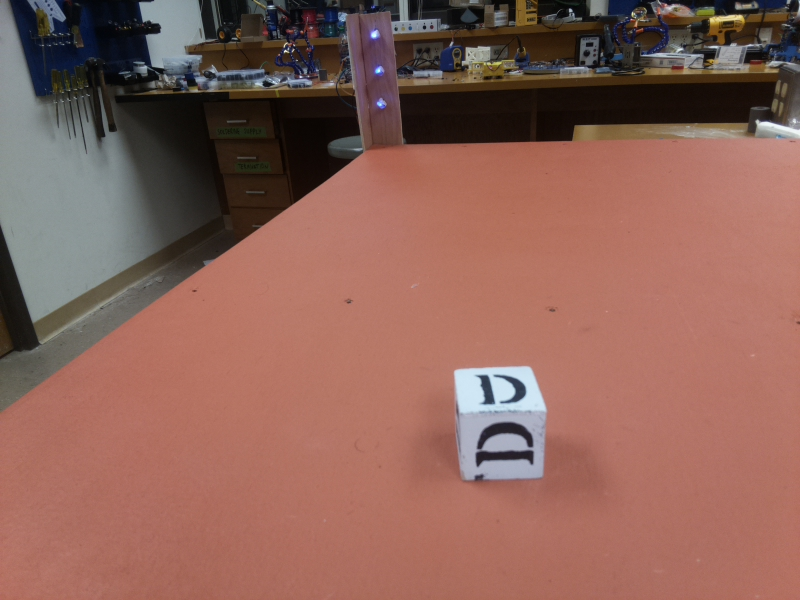blockD: (448, 365, 548, 484)
corner: (341, 12, 408, 150)
